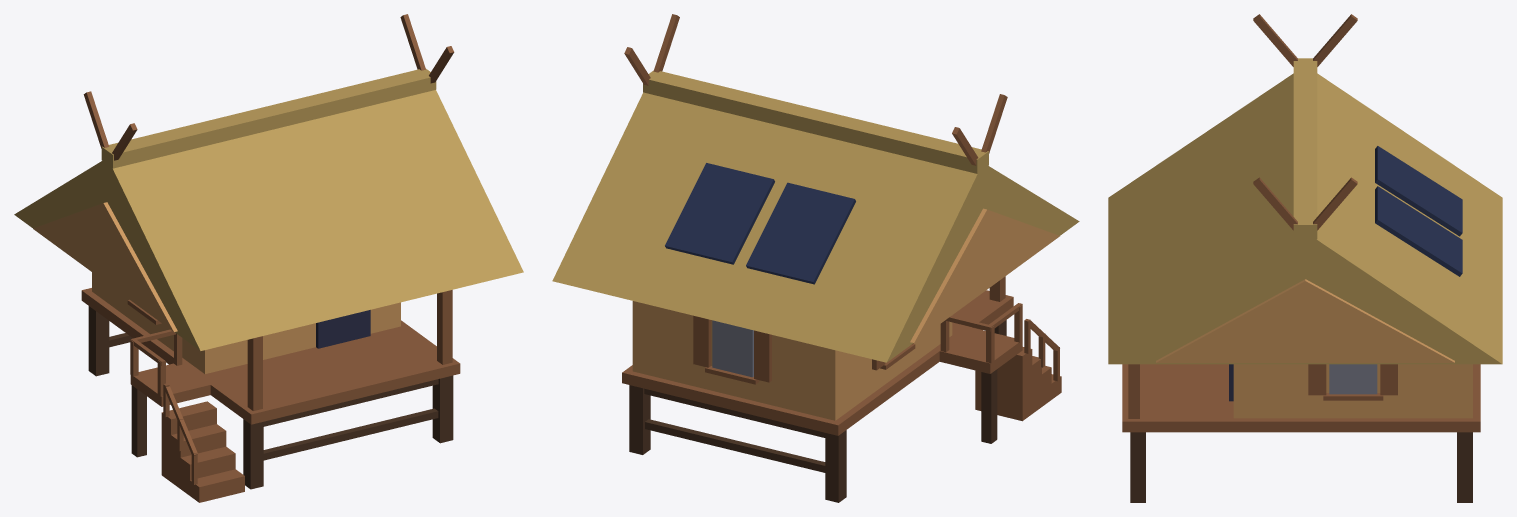
File: house-1x1-1f-stilt-a-solar.glb
3 views of the same model, side by side, from view 1: azimuth 30°, elevation 25°; view 2: azimuth 150°, elevation 25°; view 3: azimuth 270°, elevation 25° (orthographic). The views are drawn at different scales.
Parts seen in each view (by area): view 1: house-1x1-1f-stilt-a-solar; view 2: house-1x1-1f-stilt-a-solar; view 3: house-1x1-1f-stilt-a-solar.
Boxes of the visible parts, bbox=[...] form: house-1x1-1f-stilt-a-solar: bbox=[14, 14, 523, 502]; house-1x1-1f-stilt-a-solar: bbox=[552, 14, 1079, 502]; house-1x1-1f-stilt-a-solar: bbox=[1108, 14, 1502, 502].
Bounding box in the file's own units: 1.01 × 0.9803 × 0.99.
1 material, 1 textured.
